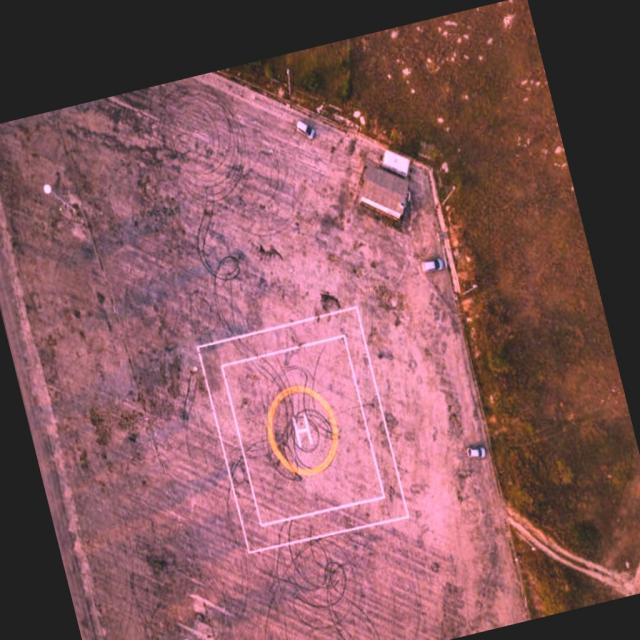helipad: (264, 383, 339, 478)
